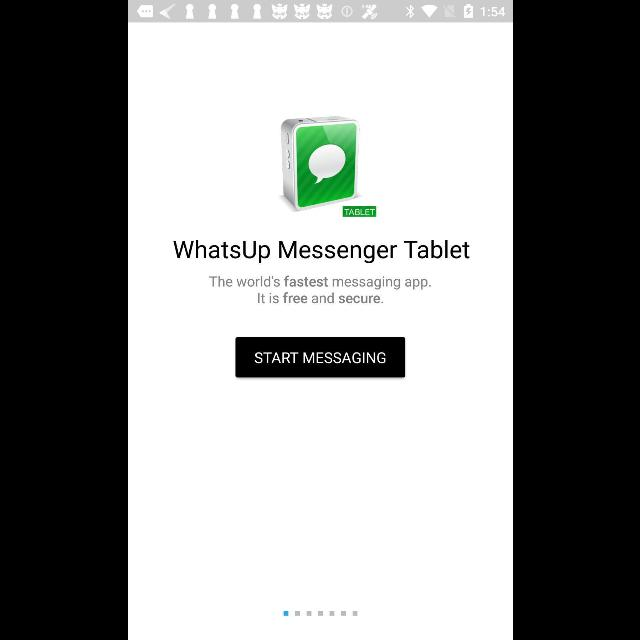image: (277, 116, 375, 217)
pageindicator: (282, 610, 358, 616)
text: (172, 240, 470, 264), (208, 275, 430, 305)
textbutton: (235, 337, 405, 378)
uppertaskbar: (128, 1, 512, 23)
